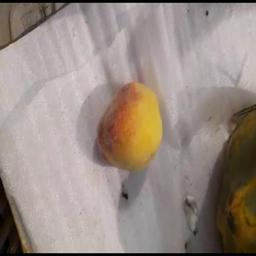Peach Fresh: (85, 73, 179, 175)
